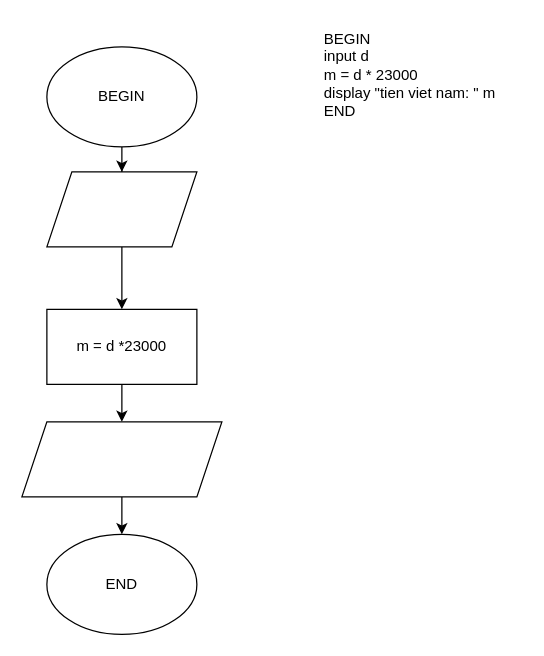
Some shapes in this 544 by 656 pixel diagram are drawn without their labels. Each missing label, with the centre of its shape:
display "tien viet nam" m: point (121, 459)
input d: point (121, 209)
